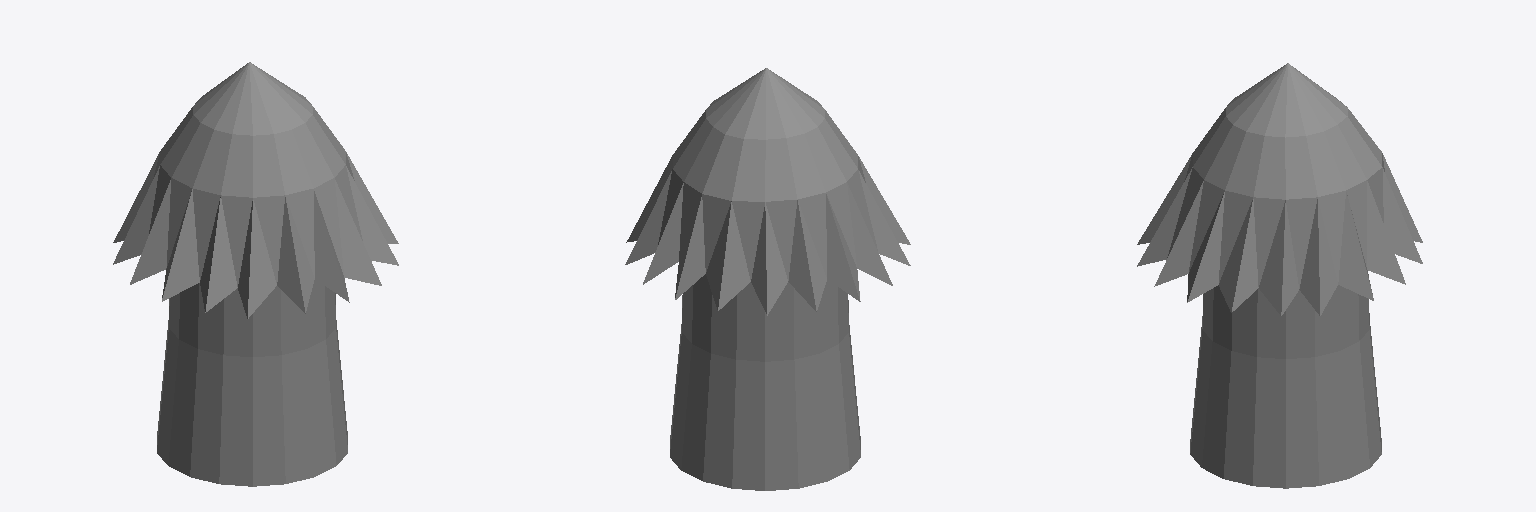
Rendered from home02.obj.
The picture shows the model from 3 angles: view 1: azimuth 30°, elevation 25°; view 2: azimuth 150°, elevation 25°; view 3: azimuth 270°, elevation 25°; orthographic projection.
Visible parts, largest first — view 1: Object001; view 2: Object001; view 3: Object001.
Boxes of the visible parts, x1=… form: Object001: x1=113, y1=62, x2=398, y2=486; Object001: x1=625, y1=68, x2=910, y2=490; Object001: x1=1137, y1=63, x2=1422, y2=488.
Size of the model in its own units: 110 by 160 by 108.